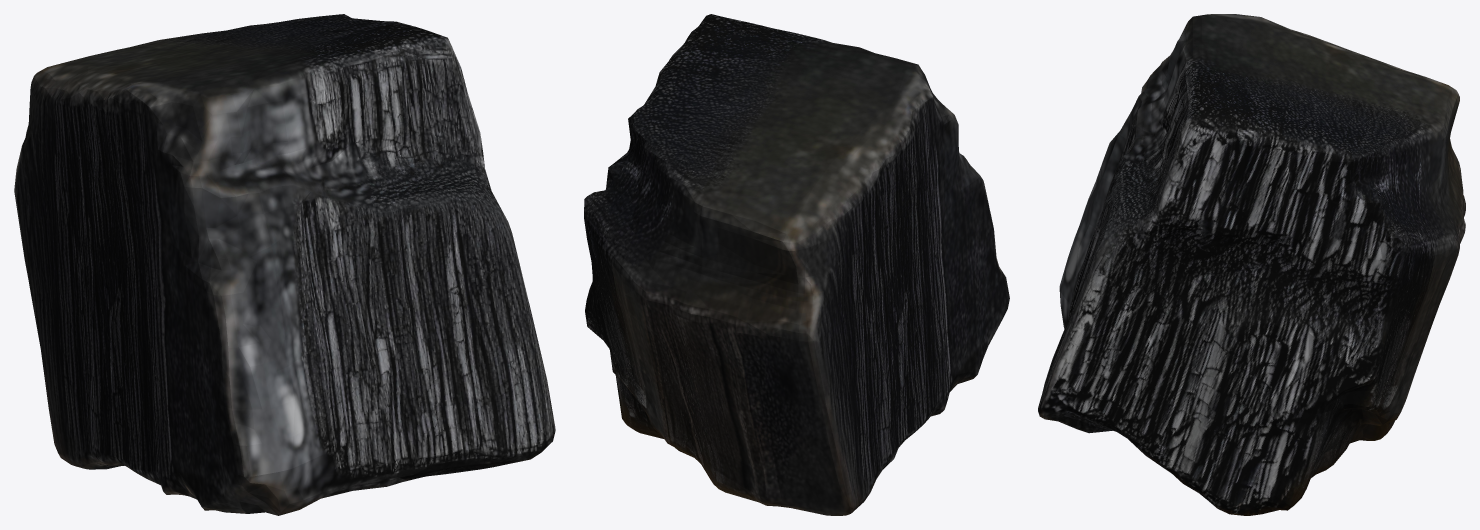
File: carbonaceous_matter.glb
3 views of the same model, side by side, from view 1: azimuth 30°, elevation 25°; view 2: azimuth 150°, elevation 25°; view 3: azimuth 270°, elevation 25° (orthographic). The views are drawn at different scales.
Parts seen in each view (by area): view 1: tripo_node_3d2e5bd3-74ad-4ed1-a825-7450dd668913; view 2: tripo_node_3d2e5bd3-74ad-4ed1-a825-7450dd668913; view 3: tripo_node_3d2e5bd3-74ad-4ed1-a825-7450dd668913.
Boxes of the visible parts, left/top/right/bottom form: tripo_node_3d2e5bd3-74ad-4ed1-a825-7450dd668913: left=14, top=14, right=555, bottom=515; tripo_node_3d2e5bd3-74ad-4ed1-a825-7450dd668913: left=584, top=14, right=1009, bottom=515; tripo_node_3d2e5bd3-74ad-4ed1-a825-7450dd668913: left=1038, top=14, right=1465, bottom=515.
Size of the model in its own units: 0.7102 by 0.9475 by 0.9384.
Materials: 1 (1 with a texture image).
